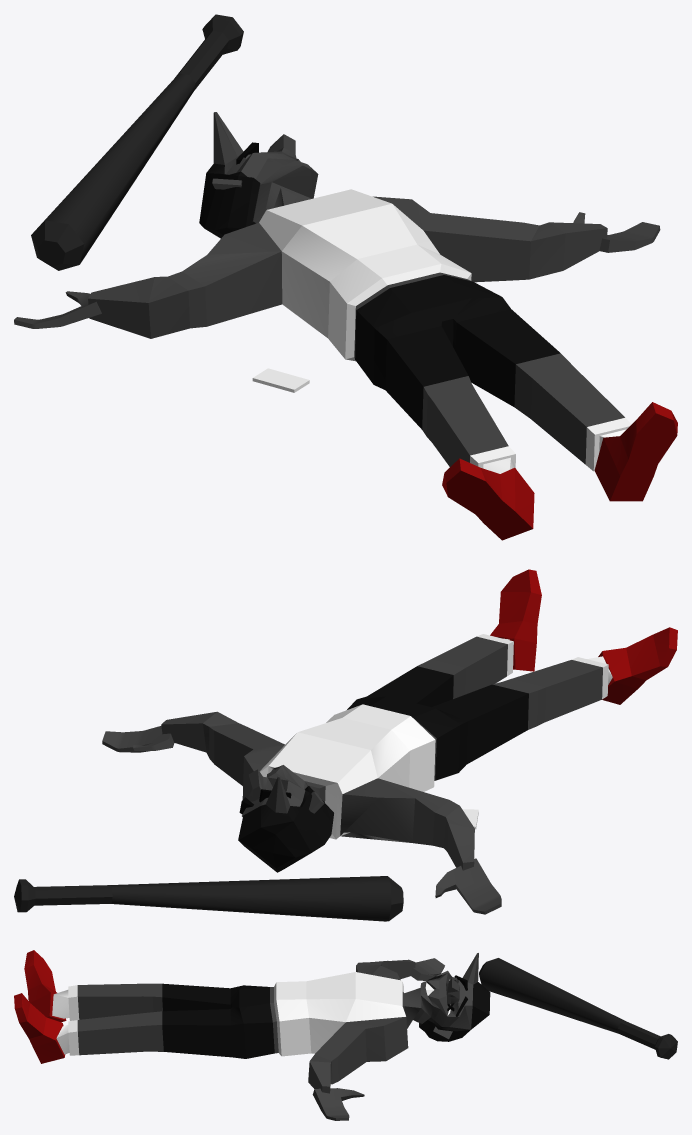
The model's file is Deadguy.fbx.
3 renders of one model, top to bottom at view 1: azimuth 30°, elevation 25°; view 2: azimuth 150°, elevation 25°; view 3: azimuth 270°, elevation 25°, orthographic. The views are drawn at different scales.
Visible parts, largest first — view 1: Box002; view 2: Box002; view 3: Box002.
Boxes of the visible parts, left/top/right/bottom form: Box002: left=14, top=14, right=677, bottom=540; Box002: left=14, top=569, right=677, bottom=921; Box002: left=14, top=950, right=677, bottom=1120.
Size of the model in its own units: 158 by 41.02 by 262.
